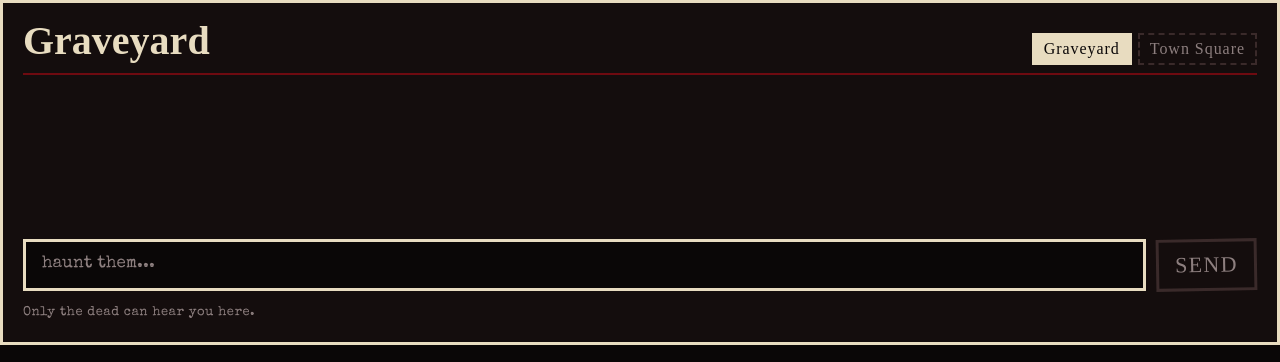
Test: ChatDock: graveyard › gives the dead a graveyard they can switch away from
The image size is (1280, 362).
Type "boo" into the field named "Message" at [585, 265], box [23, 239, 1146, 291]
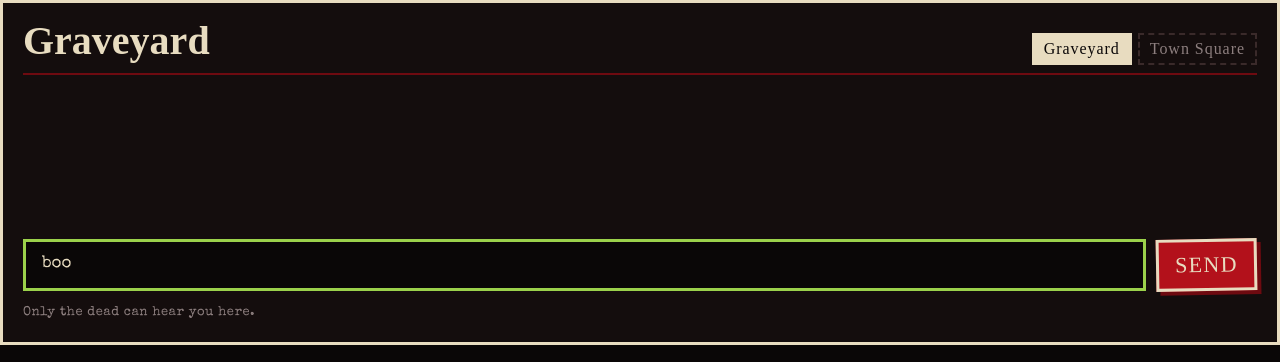
Click the button "SEND" at [1207, 265], box [1156, 238, 1257, 292]
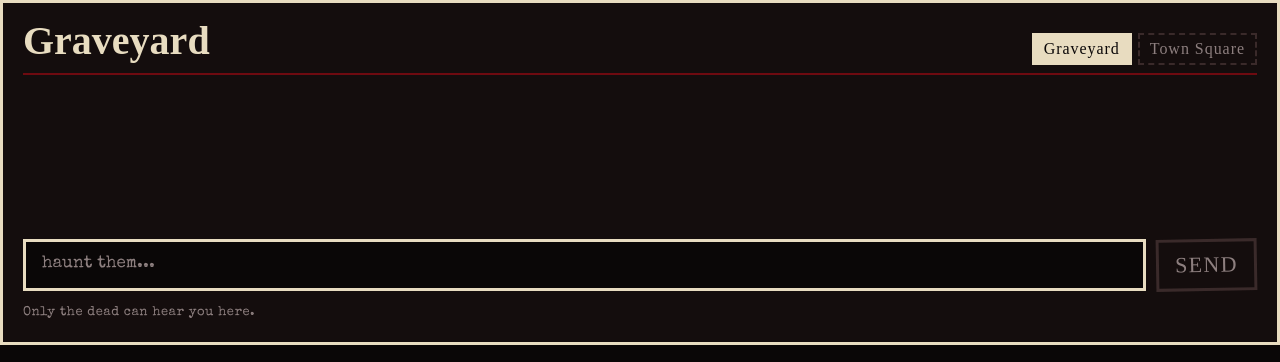
Click the tab "Town Square" at [1197, 49], box [1138, 33, 1257, 65]
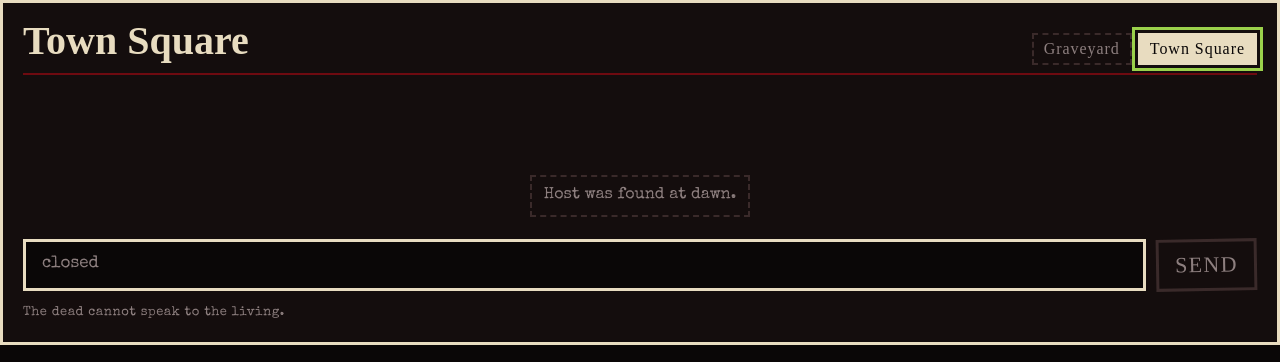
Check: the field named "Message" is disabled, box [23, 239, 1146, 291]
Check: the text "The dead cannot speak to the living." is shown, box [23, 306, 285, 319]
